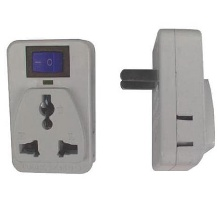three_eye_plug: (114, 24, 217, 176), (3, 38, 97, 175)
